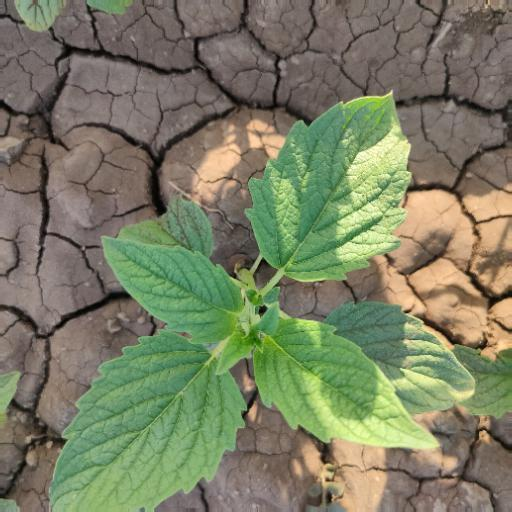crop: (43, 80, 471, 512)
